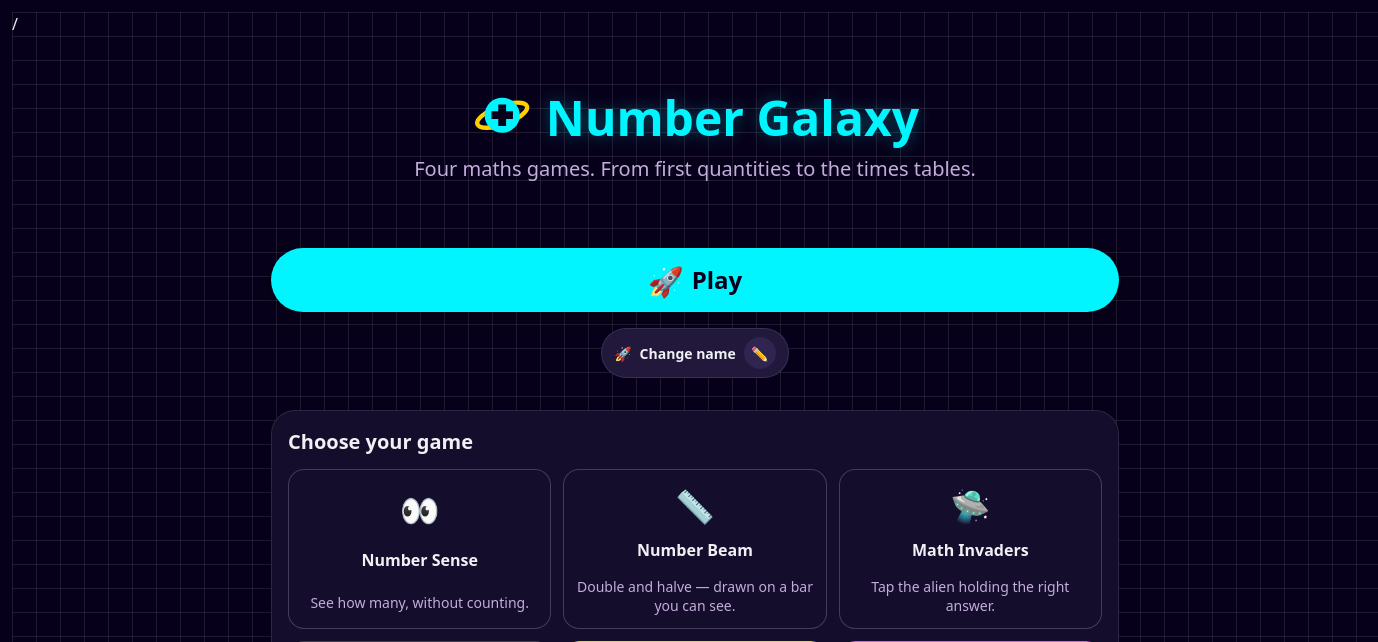
Scenario: HomePage › sends the hero button somewhere instead of leaving it inert
Click the button "🚀 Play".
click(695, 280)  # box [271,248,1119,312]
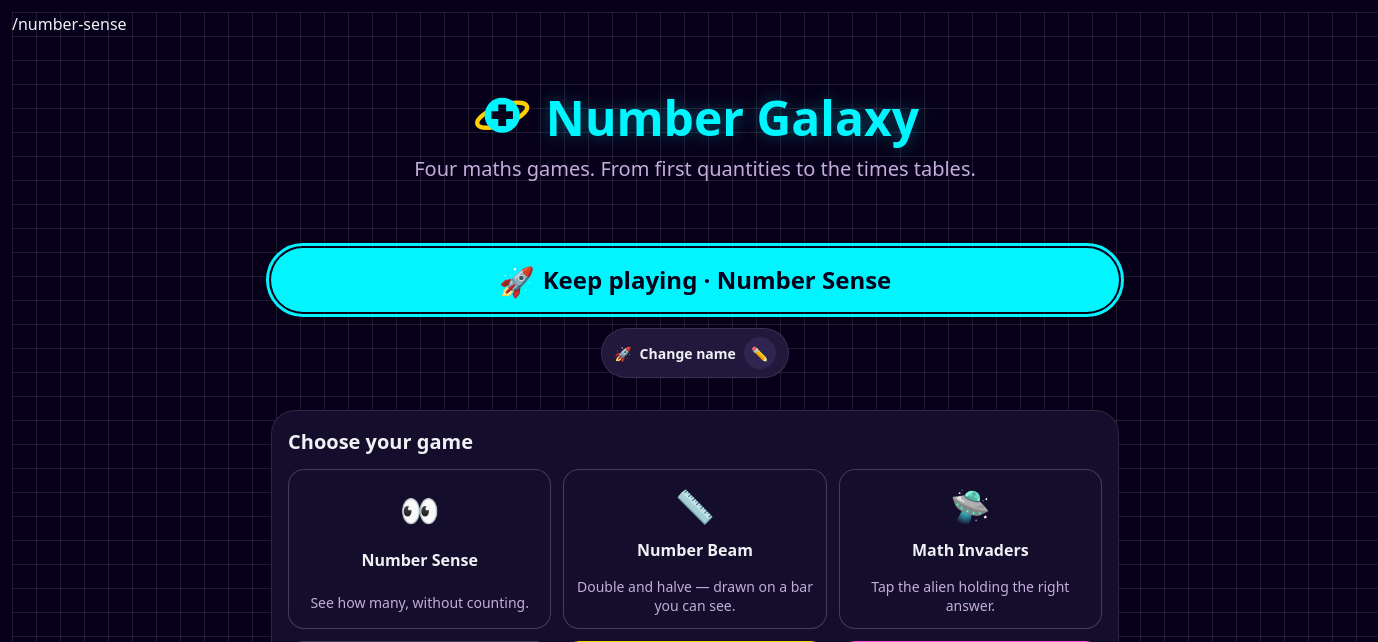
Expected: the text with test id "test-location" reads "/number-sense", [12,13,127,35]
